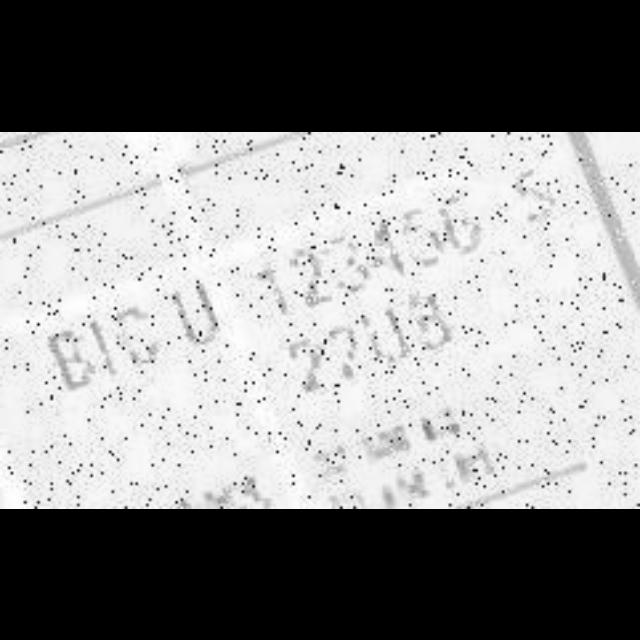1: (361, 207, 419, 291), (246, 253, 305, 327)
2: (275, 325, 346, 404), (275, 234, 341, 318), (317, 308, 381, 392)
3: (314, 220, 379, 300)
5: (501, 153, 573, 234), (391, 196, 454, 276)
6: (428, 182, 496, 264)
8: (396, 279, 466, 358)
b: (37, 317, 106, 403)
c: (102, 290, 174, 379)
i: (82, 308, 126, 381)
u: (165, 269, 233, 357), (353, 296, 421, 376)
